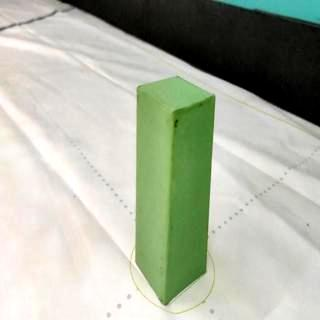greenbox: (135, 74, 217, 308)
